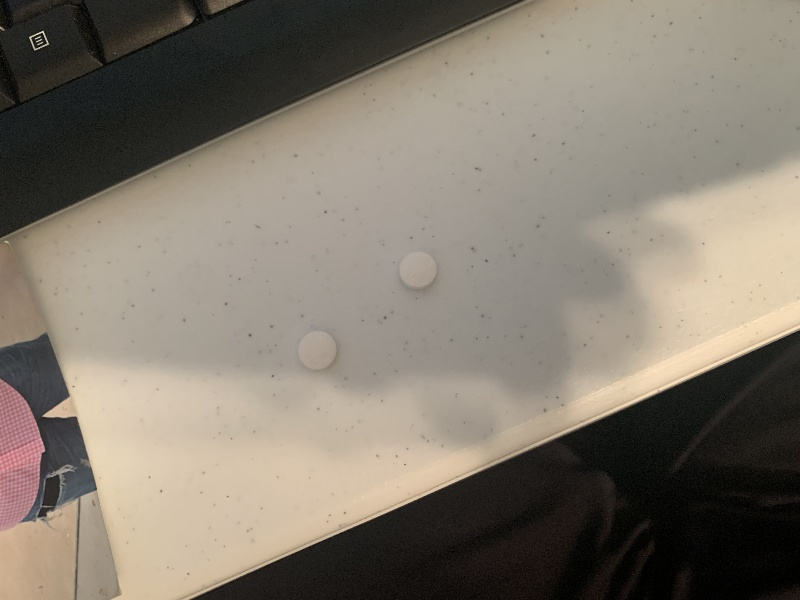Aspirin: (296, 327, 339, 374), (396, 250, 441, 290)
